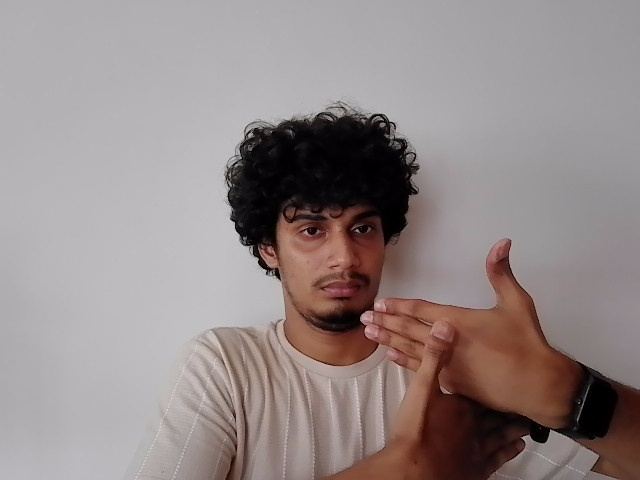work: (359, 233, 557, 471)
